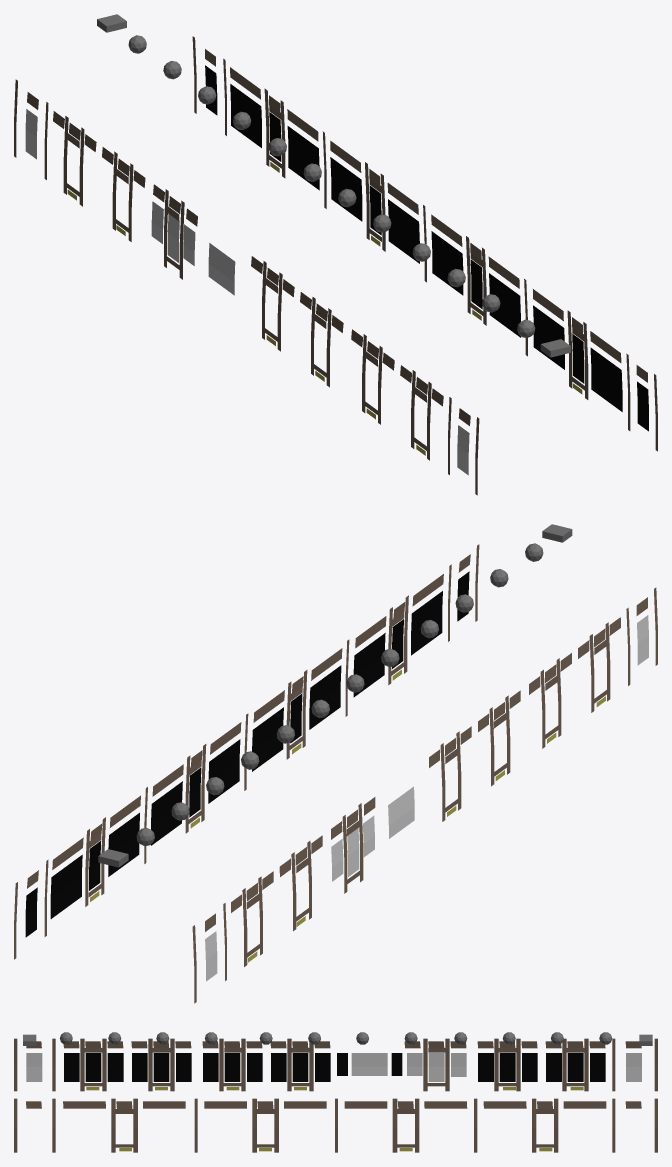
Rendered from tea-car-details.dae.
3 renders of one model, top to bottom at view 1: azimuth 30°, elevation 25°; view 2: azimuth 150°, elevation 25°; view 3: azimuth 270°, elevation 25°, orthographic. The views are drawn at different scales.
Visible parts, largest first — view 1: Plane_460, Plane_480, Plane_463, Plane_470, Plane_483, Plane_473, Plane_495, Plane_454, Plane_591; view 2: Plane_495, Plane_470, Plane_454, Plane_473, Plane_480, Plane_460, Plane_463, Plane_483, Plane_591; view 3: Plane_591, Plane_589, Plane_580, Plane_579, Plane_570, Plane_559, Plane_551, Plane_540, Plane_532, Plane_521, Plane_576, Plane_573 (+53 smaller).
Part boxes in pixels (bbox=[...]): Plane_460: bbox=[590, 347, 622, 411]; Plane_480: bbox=[388, 199, 419, 263]; Plane_463: bbox=[489, 273, 520, 337]; Plane_470: bbox=[431, 231, 463, 295]; Plane_483: bbox=[287, 126, 319, 190]; Plane_473: bbox=[330, 157, 362, 221]; Plane_495: bbox=[230, 84, 261, 147]; Plane_454: bbox=[533, 305, 564, 369]; Plane_591: bbox=[208, 243, 235, 295]; Plane_495: bbox=[50, 854, 82, 918]; Plane_470: bbox=[252, 707, 283, 771]; Plane_454: bbox=[353, 633, 385, 697]; Plane_473: bbox=[151, 781, 182, 845]; Plane_480: bbox=[208, 739, 240, 803]; Plane_460: bbox=[411, 591, 442, 655]; Plane_463: bbox=[309, 665, 341, 729]; Plane_483: bbox=[108, 812, 139, 876]; Plane_591: bbox=[388, 786, 414, 838]; Plane_591: bbox=[351, 1053, 387, 1075]; Plane_589: bbox=[26, 1053, 42, 1081]; Plane_580: bbox=[107, 1053, 123, 1081]; Plane_579: bbox=[85, 1053, 101, 1081]; Plane_570: bbox=[153, 1053, 169, 1081]; Plane_559: bbox=[292, 1053, 308, 1081]; Plane_551: bbox=[224, 1053, 240, 1081]; Plane_540: bbox=[499, 1053, 515, 1081]; Plane_532: bbox=[567, 1053, 583, 1081]; Plane_521: bbox=[428, 1053, 444, 1081]; Plane_576: bbox=[64, 1053, 79, 1081]; Plane_573: bbox=[132, 1053, 147, 1081].
Bounding box in the file's own units: 2.21 × 9.85 × 1.49.
